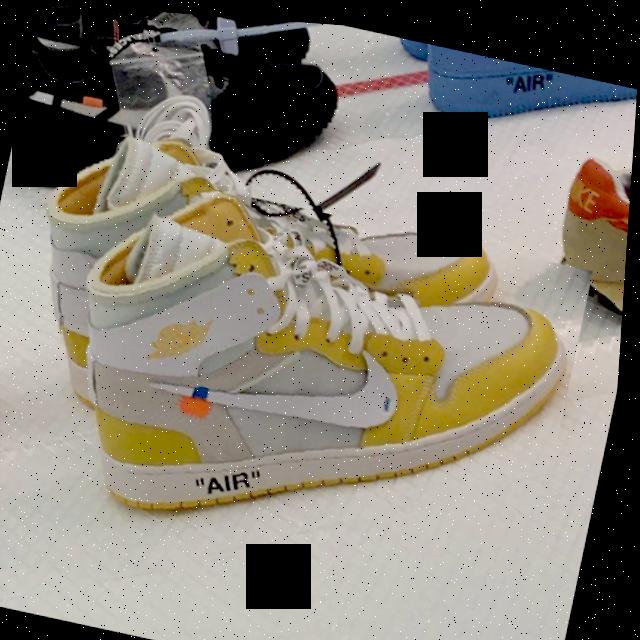shoe: (22, 158, 600, 624)
